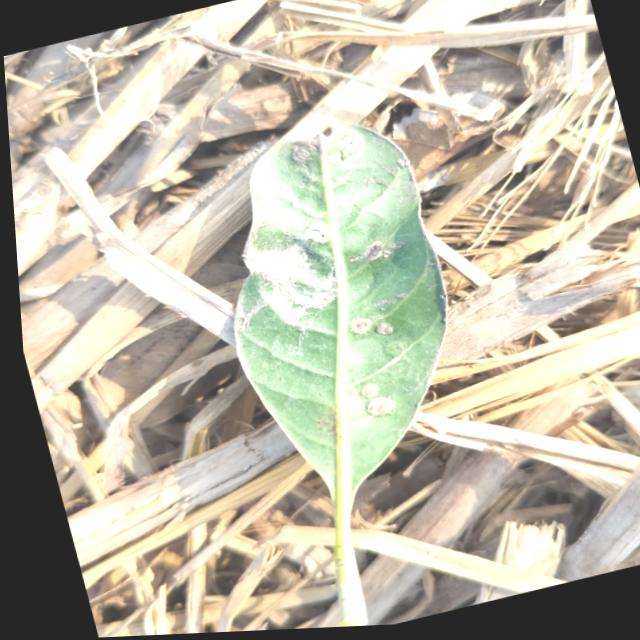Powdery Mildew: (248, 239, 331, 327)
